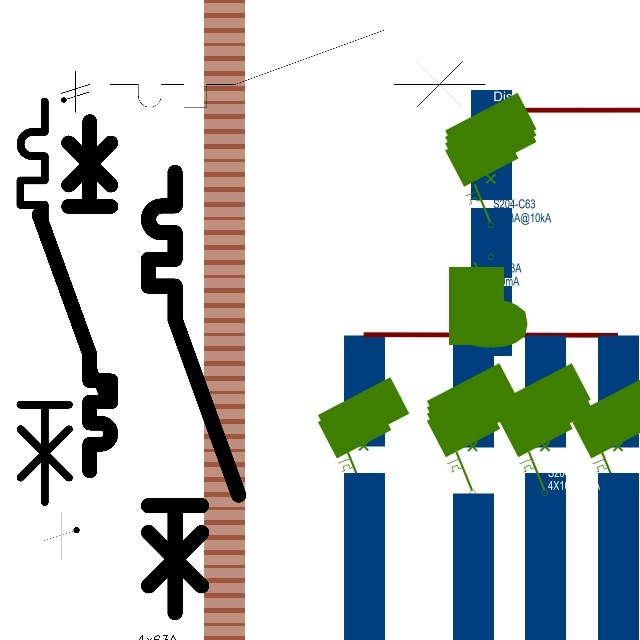interruptor_termomagnetico: (137, 161, 250, 624), (10, 91, 113, 512), (100, 20, 495, 117), (30, 112, 120, 480)
